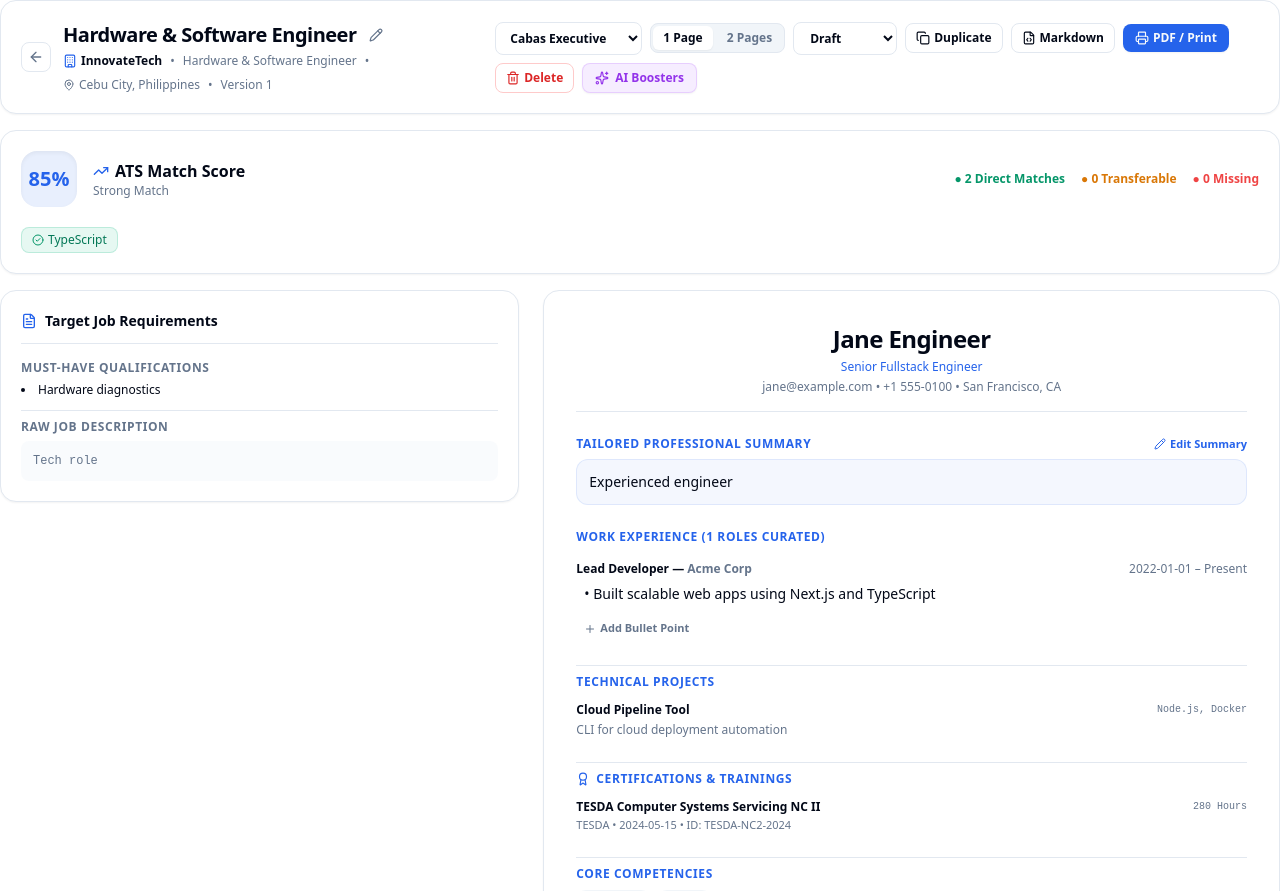
Test: Fit Studio UI: StudioClient › displays saved resumes in View 1 and switches versions in View 2
The image size is (1280, 891).
Expected: the text "InnovateTech" is shown, [63, 53, 162, 69]
Expected: the heading "Certifications & Trainings" is shown, [596, 770, 792, 786]
Clicking back takes to View 1, where saved resumes list is shown
What coordinates should you click on to do the following:
click the button titled "Back to input"
I would click on:
 (36, 57)
Its box is [21, 42, 51, 72].
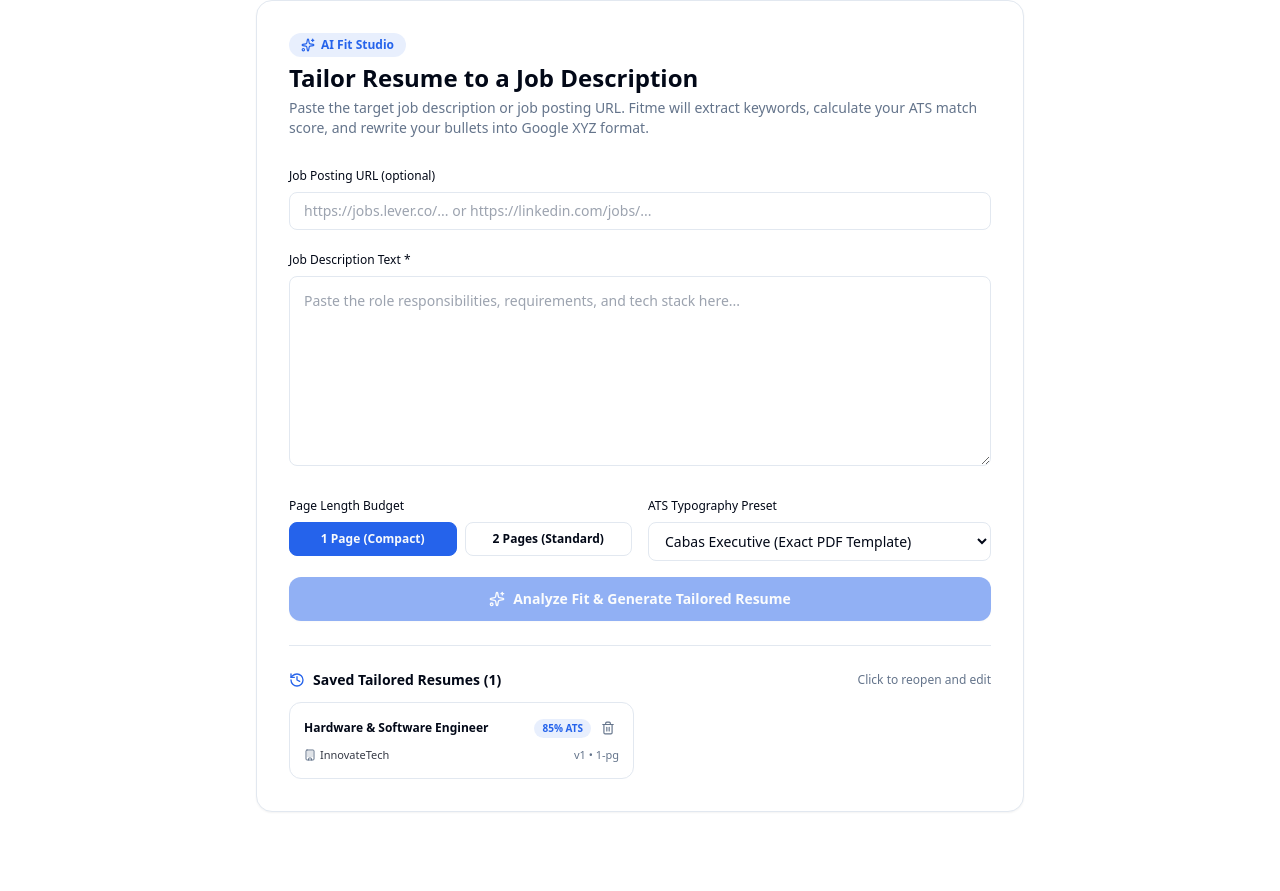
Expected: the heading "Saved Tailored Resumes (1)" is shown, [313, 670, 501, 690]
